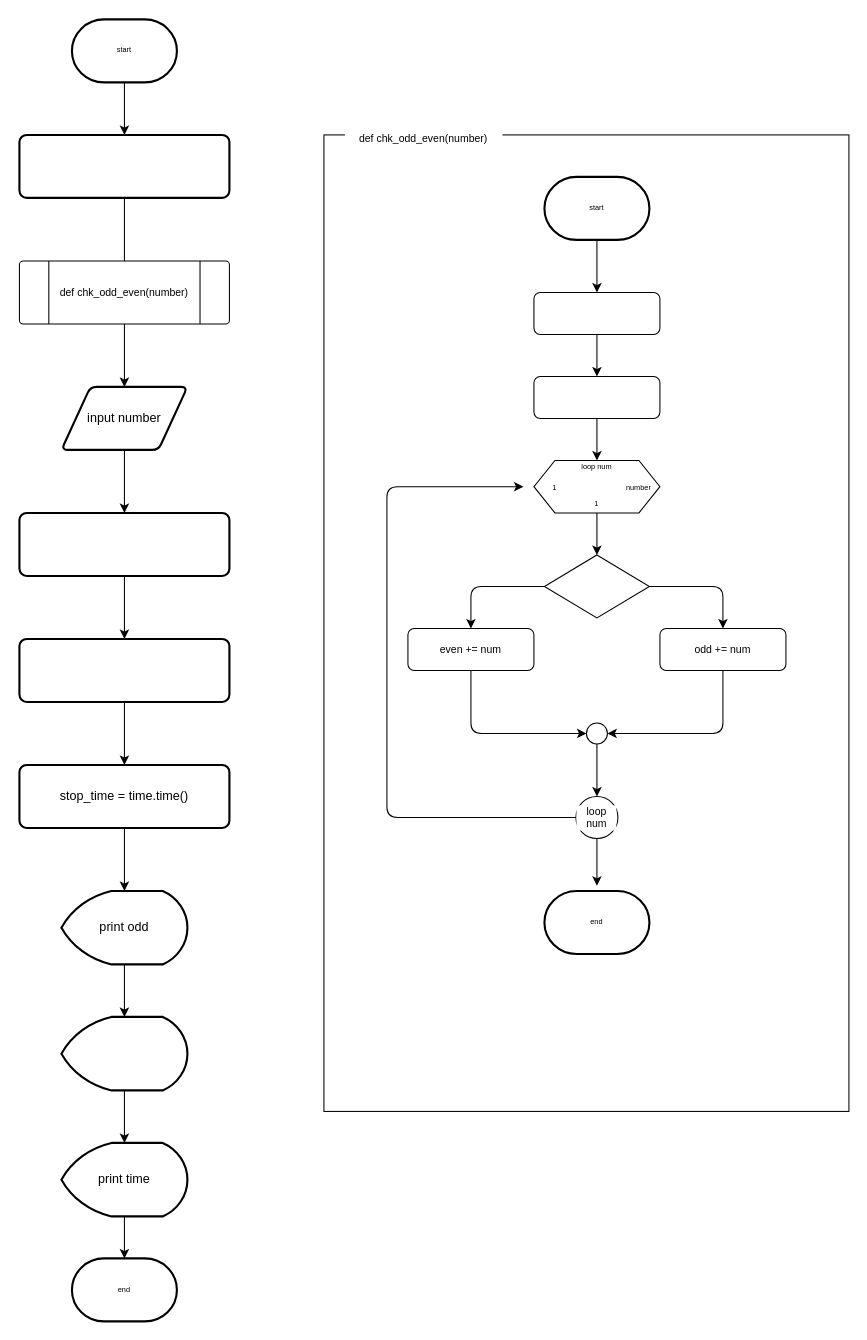
Image size: 867x1340. Some labels were removed from this diagram. The box of each missing label's shape, as (x1, y1, x2, y2) in pixels:
even = 0: (533, 375, 660, 418)
if num % 2 == 0: (543, 554, 649, 618)
import time: (18, 133, 230, 198)
num_odd, num_even = chk_odd_even: (18, 637, 230, 702)
odd = 0: (533, 291, 660, 334)
print even: (60, 1015, 188, 1091)
start_time = time.time(): (18, 511, 230, 576)
